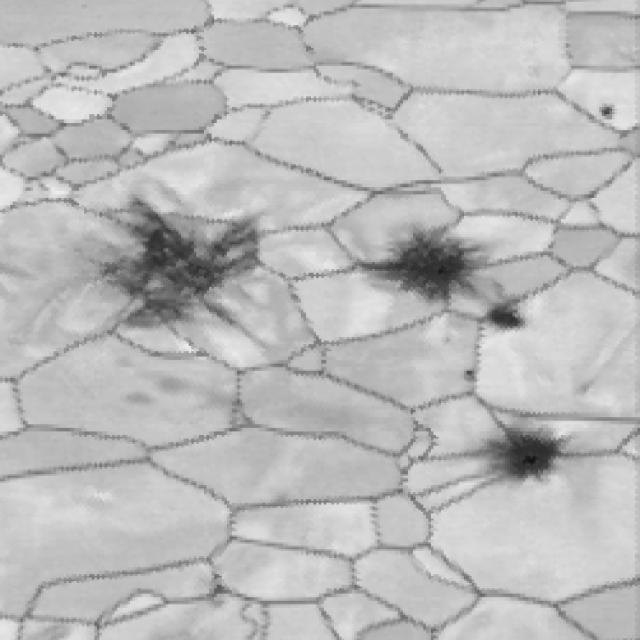good_void: (80, 185, 283, 342), (355, 214, 479, 304), (471, 420, 568, 484), (158, 376, 231, 408), (473, 297, 523, 336), (457, 361, 483, 393), (122, 389, 151, 409), (594, 100, 620, 121)
